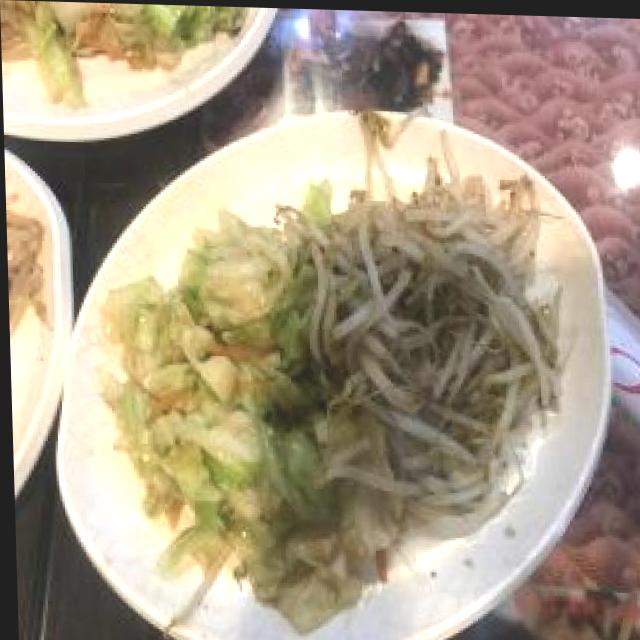chinese_cabbage: (92, 167, 332, 627), (30, 1, 242, 106)
mung_bean_sprouts: (318, 137, 572, 546)
